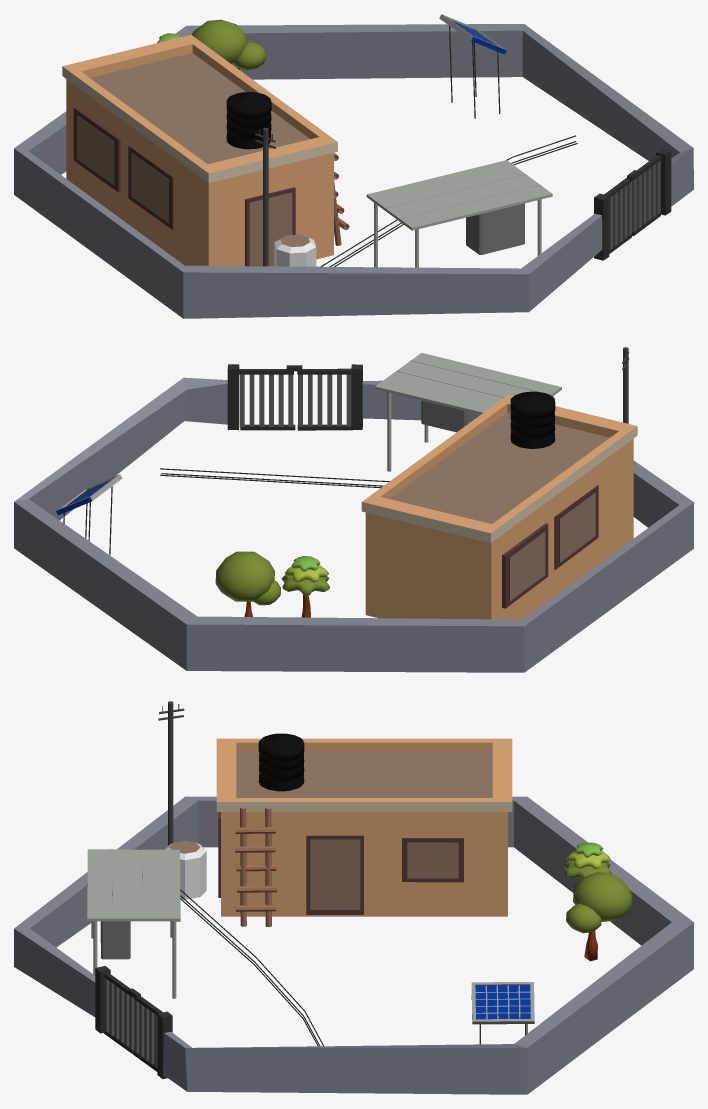
The model's file is Solar .fbx.
3 renders of one model, top to bottom at view 1: azimuth 30°, elevation 25°; view 2: azimuth 150°, elevation 25°; view 3: azimuth 270°, elevation 25°, orthographic.
Parts seen in each view (by area): view 1: wall, Building Solar, shed, Gate, generator, Tank, Tree2, fuel tank, Solar panel, pole.001, Triple wire, ladder; view 2: wall, Building Solar, Gate, shed, Tree2, Tank, Tree1, Triple wire, generator, Solar panel; view 3: Building Solar, wall, shed, Gate, Tree2, Solar panel, ladder, Tank, fuel tank, Tree1, generator, Triple wire (+1 smaller).
Boxes of the visible parts, box(x1,y1,x2,y2) form: wall: box(14, 24, 693, 318); Building Solar: box(62, 35, 337, 266); shed: box(366, 160, 552, 267); Gate: box(594, 148, 671, 260); generator: box(466, 203, 524, 254); Tank: box(226, 92, 271, 149); Tree2: box(192, 19, 266, 70); fuel tank: box(274, 234, 316, 266); Solar panel: box(439, 14, 506, 118); pole.001: box(255, 128, 275, 266); Triple wire: box(320, 135, 577, 266); ladder: box(334, 153, 349, 245); wall: box(14, 377, 693, 672); Building Solar: box(361, 394, 637, 619); Gate: box(227, 364, 362, 430); shed: box(375, 352, 561, 471); Tree2: box(215, 551, 280, 616); Tank: box(510, 391, 555, 448); Tree1: box(281, 556, 329, 617); Triple wire: box(160, 468, 389, 488); generator: box(421, 400, 479, 432); Solar panel: box(56, 474, 122, 555); Building Solar: box(216, 738, 512, 916); wall: box(14, 796, 693, 1094); shed: box(87, 849, 180, 998); Gate: box(95, 966, 172, 1078); Tree2: box(566, 872, 632, 961); Solar panel: box(471, 982, 534, 1044); ladder: box(235, 807, 276, 926); Tank: box(258, 733, 304, 791); fuel tank: box(165, 841, 206, 899); Tree1: box(563, 842, 611, 879); generator: box(100, 921, 130, 959); Triple wire: box(180, 889, 323, 1046).
Size of the model in its own units: 137 by 49.09 by 157.
